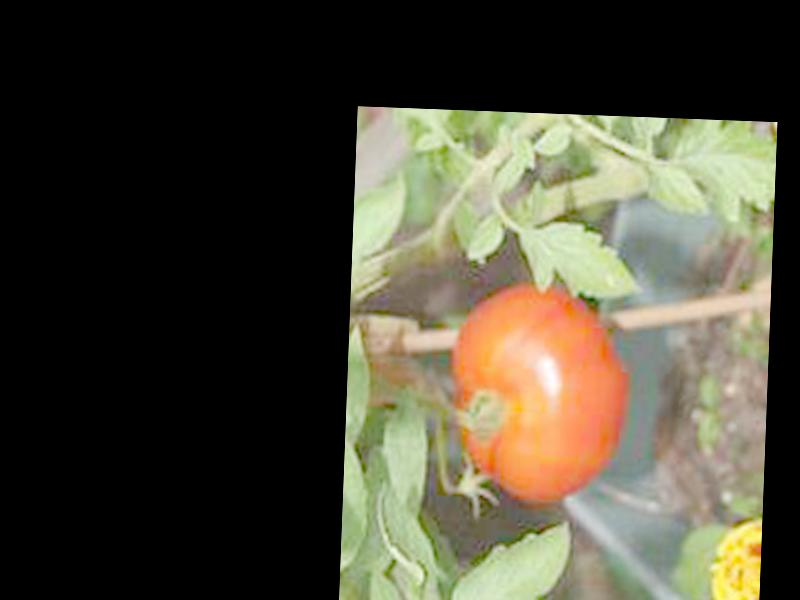Tomato: (445, 278, 629, 507)
